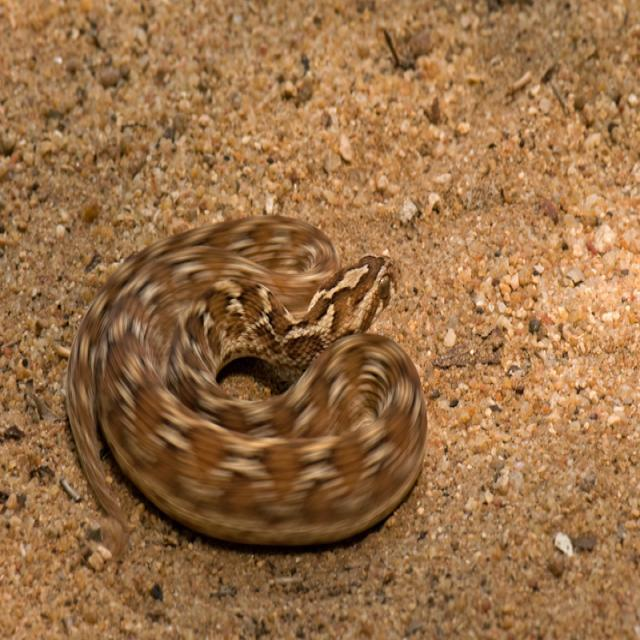Snake: (62, 212, 428, 554)
